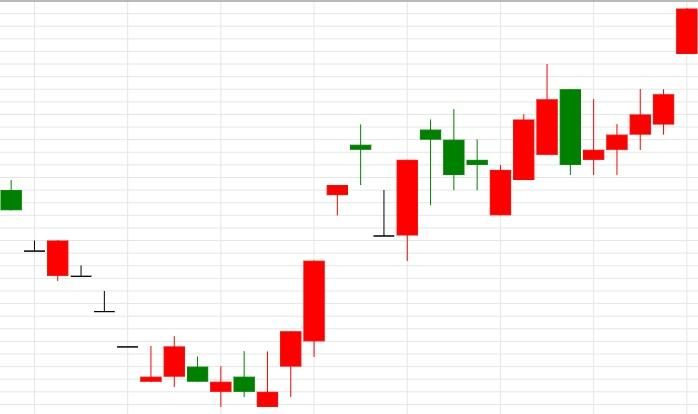inverse_hammer_rise: (0, 180, 279, 408)
